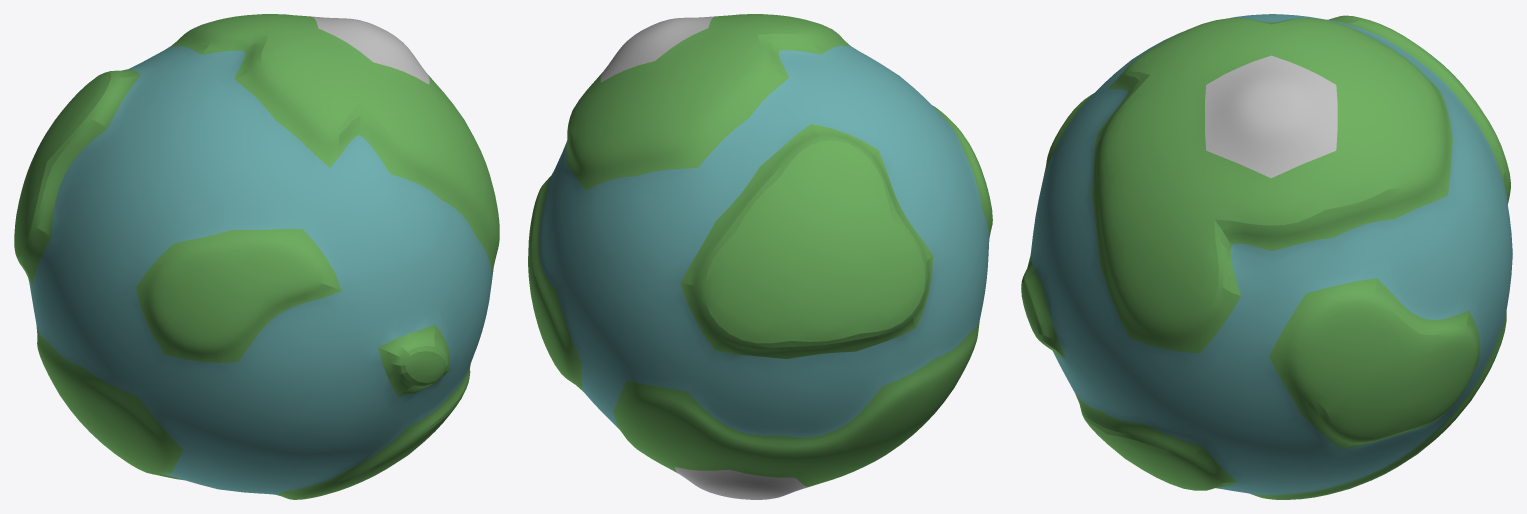
The model's file is planet-earth.glb.
The picture shows the model from 3 angles, left to right: view 1: azimuth 30°, elevation 25°; view 2: azimuth 150°, elevation 25°; view 3: azimuth 270°, elevation 25°; orthographic projection. The views are drawn at different scales.
Visible parts, largest first — view 1: Planet_1; view 2: Planet_1; view 3: Planet_1.
Part boxes in pixels (x1,y1,x2,y2): Planet_1: [14, 14, 499, 499]; Planet_1: [528, 14, 992, 499]; Planet_1: [1021, 14, 1512, 499].
Size of the model in its own units: 3.79 by 3.93 by 3.82.
1 material, 1 textured.
